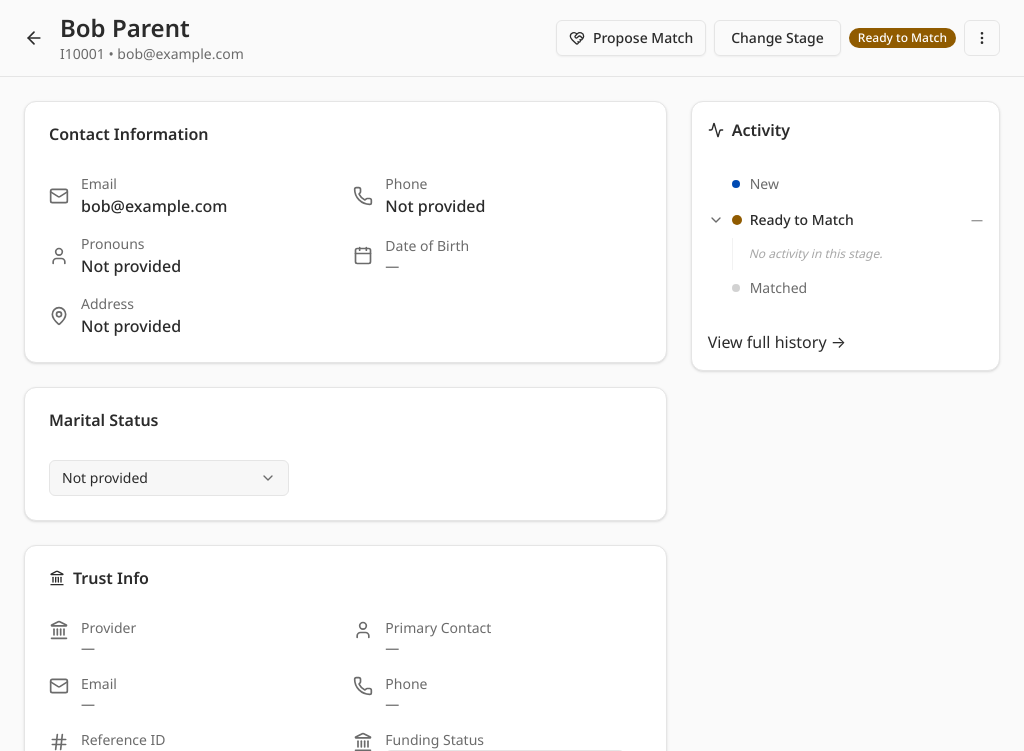
Test: IntendedParentDetailPage stage changes › decides regression self-approval for admin from approve_status_change_requests
Step 1. Click the button "Change Stage" → (778, 38), box [714,20,841,56]
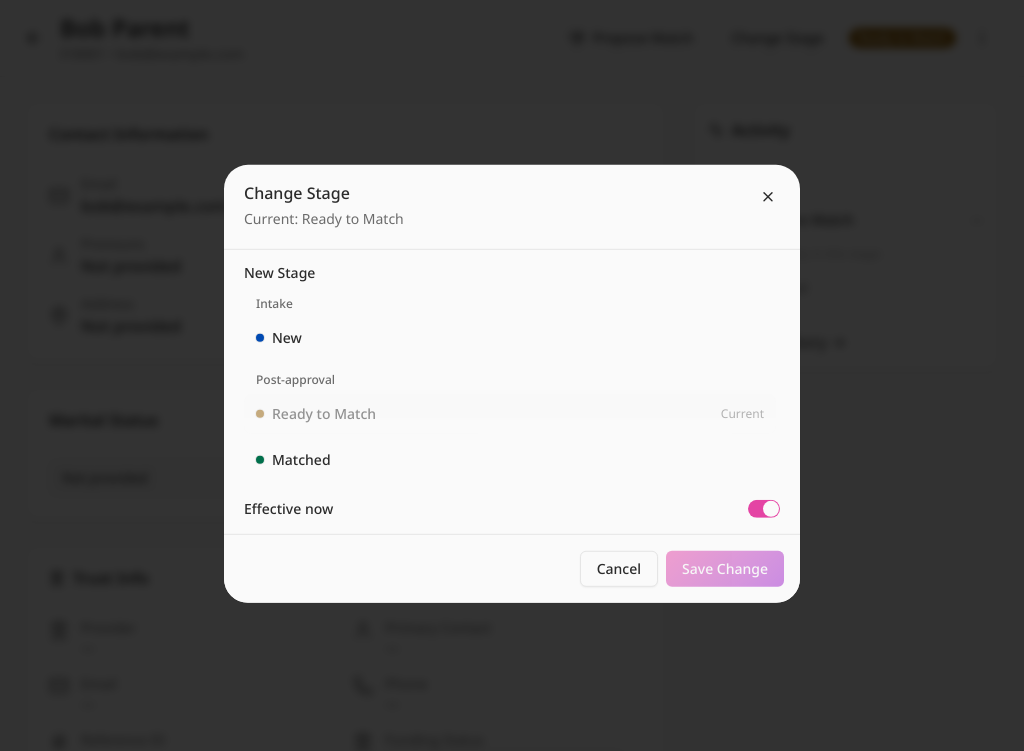
Step 2. Click the button "New" → (260, 338), box [244,318,776,358]
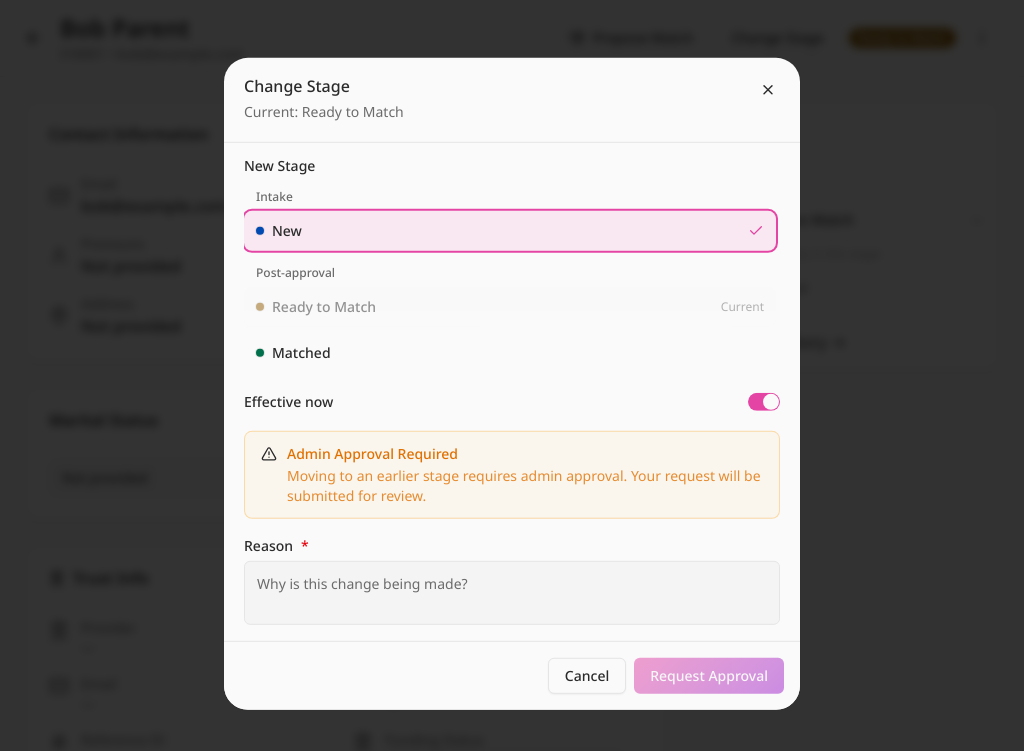
Expected: the button "Request Approval" is shown, [634,658,784,694]
